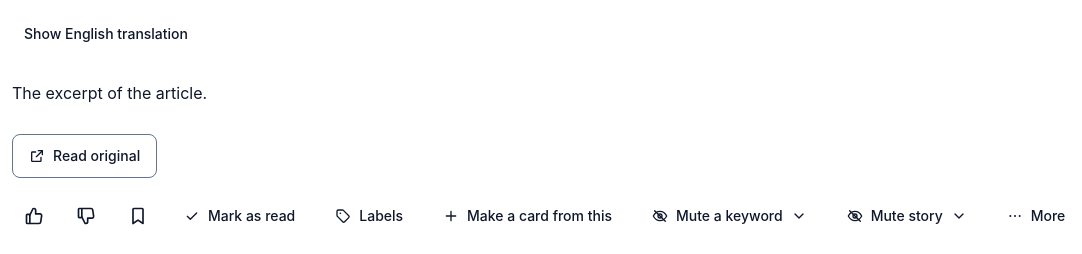
it: an opened article offline that was opened before › offers the saved translation
This screenshot has width=1082, height=254.
Click the button "Show English translation".
click(106, 34)  # box [12, 12, 200, 56]
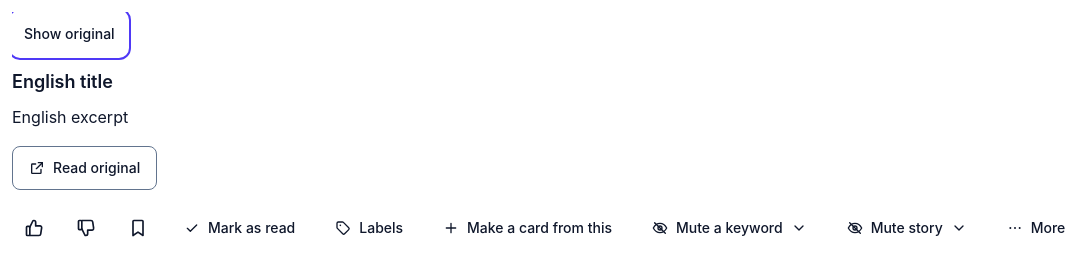
Result: the heading "English title" is shown at [12, 71, 113, 92]
Result: the text "English excerpt" is shown at [12, 107, 128, 127]
